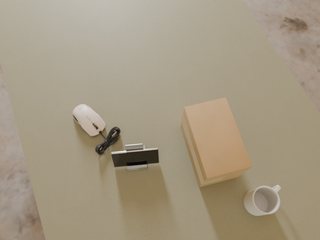box: (181, 98, 252, 187)
cup: (244, 185, 281, 216)
mouse: (73, 104, 105, 136)
phone: (111, 148, 159, 167)
